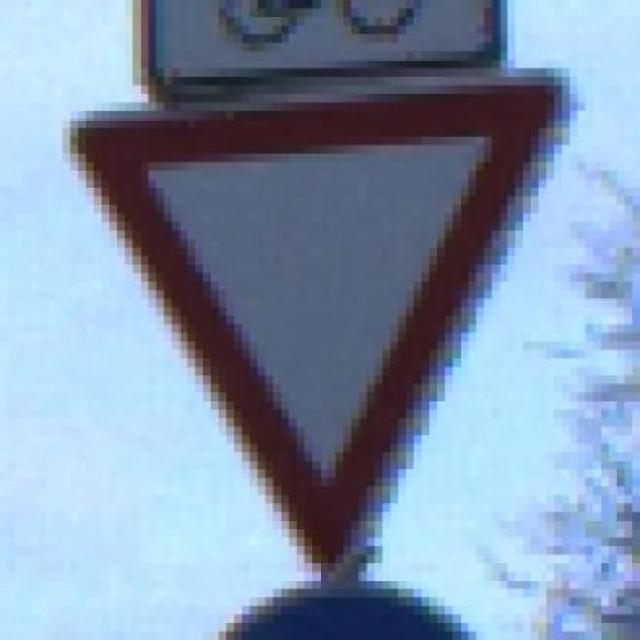Give Way: (31, 42, 578, 588)
